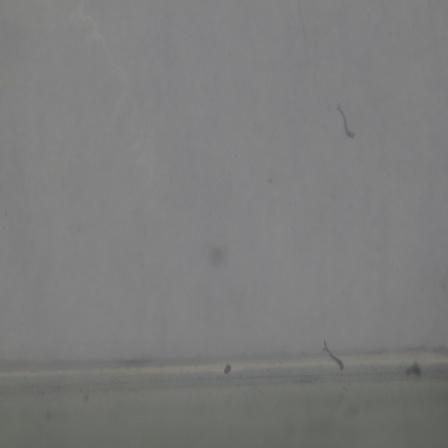Jentik-Nyamuk: (318, 336, 347, 378)
